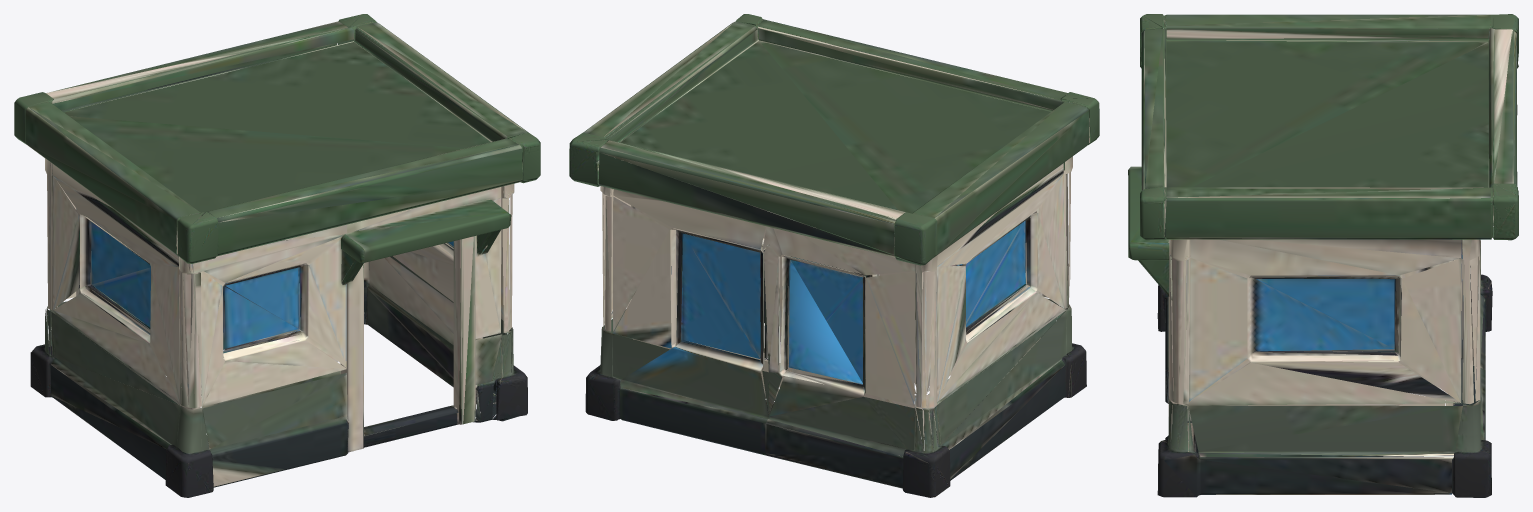
Rendered from grenade-guardhouse-low.glb.
The picture shows the model from 3 angles, left to right: view 1: azimuth 30°, elevation 25°; view 2: azimuth 150°, elevation 25°; view 3: azimuth 270°, elevation 25°; orthographic projection. The views are drawn at different scales.
Bounding box in the file's own units: 0.9487 × 0.7173 × 0.8423.
1 material, 1 textured.
